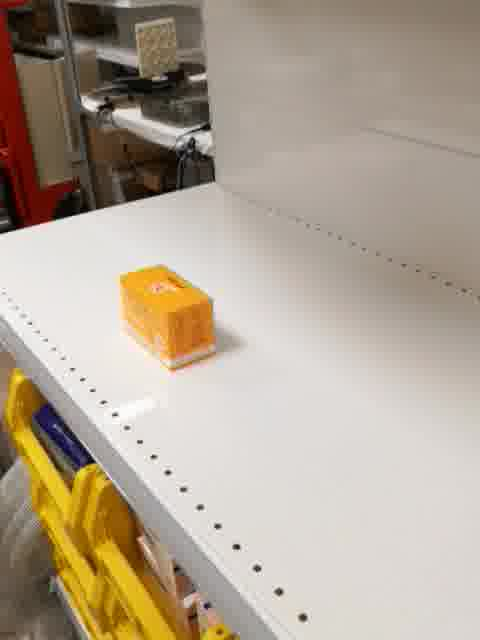jasminetea: (119, 262, 218, 373)
